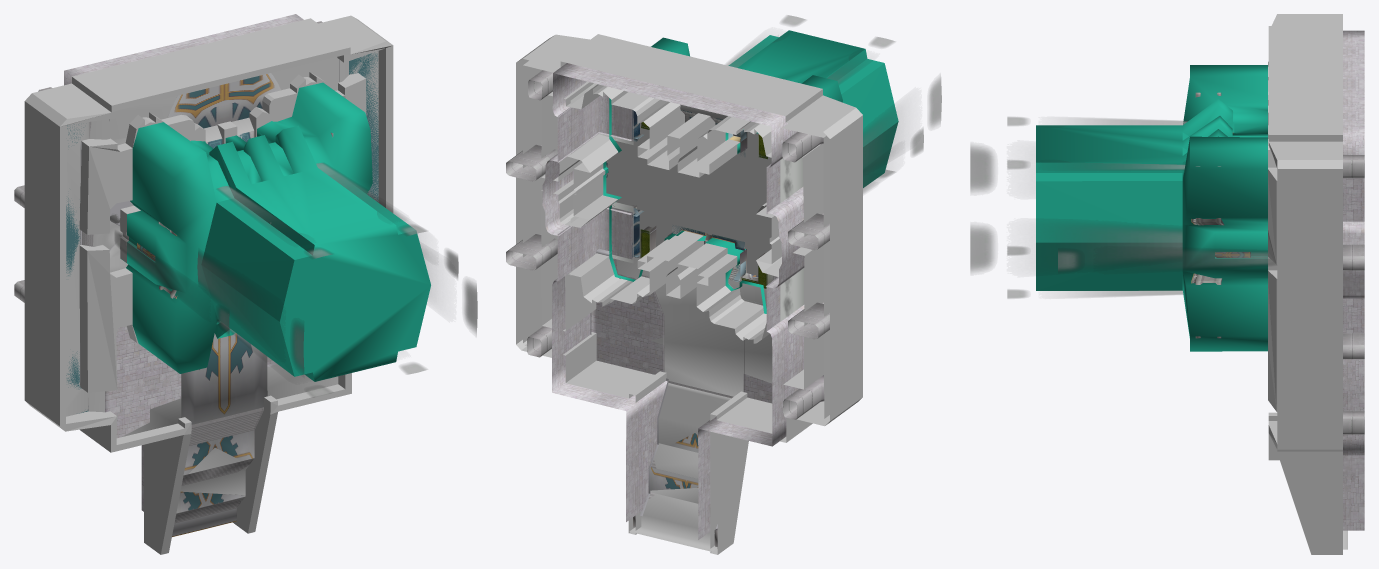
3 views of the same model, side by side, from view 1: azimuth 30°, elevation 25°; view 2: azimuth 150°, elevation 25°; view 3: azimuth 270°, elevation 25° (orthographic). The views are drawn at different scales.
Visible parts, largest first — view 1: object0072_Box01, object0067_truewall, object0077_floor1, object0049_UA103-s:1, object0055_UA103-s:6, "object0286_Editable Poly", object0060_UA103-s:8, object0053_UA103-s:5, object0039_UA103-1:6, "object0290_Editable Poly", "object0278_Editable Poly", "object0282_Editable Poly" (+1 smaller); view 2: object0067_truewall, object0039_UA103-1:6, object0077_floor1, object0072_Box01, object0029_UA103-1:4, object0055_UA103-s:6, "object0286_Editable Poly", object0012_UA103-1:0, object0049_UA103-s:1, object0183_Plane21, "object0290_Editable Poly", "object0282_Editable Poly" (+4 smaller); view 3: object0072_Box01, object0067_truewall, object0039_UA103-1:6, "object0274_Editable Poly", "object0270_Editable Poly", object0029_UA103-1:4, "object0286_Editable Poly", "object0282_Editable Poly", "object0278_Editable Poly", "object0266_Editable Poly", object0012_UA103-1:0.
Boxes of the visible parts, x1,y1,x2,y2 form: object0072_Box01: (121,82,430,381); object0067_truewall: (24,15,393,554); object0077_floor1: (66,51,378,513); object0049_UA103-s:1: (167,73,281,536); object0055_UA103-s:6: (105,326,276,438); "object0286_Editable Poly": (197,251,304,374); object0060_UA103-s:8: (82,121,263,523); object0053_UA103-s:5: (66,52,378,413); object0039_UA103-1:6: (64,14,303,511); "object0290_Editable Poly": (115,231,229,334); "object0278_Editable Poly": (217,186,332,258); "object0282_Editable Poly": (316,163,426,235); object0067_truewall: (516,34,862,554); object0039_UA103-1:6: (542,63,804,539); object0077_floor1: (606,104,772,551); object0072_Box01: (603,30,898,313); object0029_UA103-1:4: (506,70,829,419); object0055_UA103-s:6: (591,258,772,403); "object0286_Editable Poly": (863,76,941,172); object0012_UA103-1:0: (606,110,772,304); object0049_UA103-s:1: (648,110,744,490); object0183_Plane21: (780,158,803,202); "object0290_Editable Poly": (863,128,923,192); "object0282_Editable Poly": (725,15,805,67); object0072_Box01: (1036,65,1267,351); object0067_truewall: (1268,14,1342,554); object0039_UA103-1:6: (1343,30,1364,530); "object0274_Editable Poly": (970,223,1182,272); "object0270_Editable Poly": (1058,249,1275,272); object0029_UA103-1:4: (1343,155,1364,434); "object0286_Editable Poly": (970,145,994,192); "object0282_Editable Poly": (1007,160,1185,170); "object0278_Editable Poly": (1007,117,1187,125); "object0266_Editable Poly": (1007,289,1183,298); object0012_UA103-1:0: (1191,92,1250,338).
Bounding box in the file's own units: 83.27 × 115 × 90.96.
